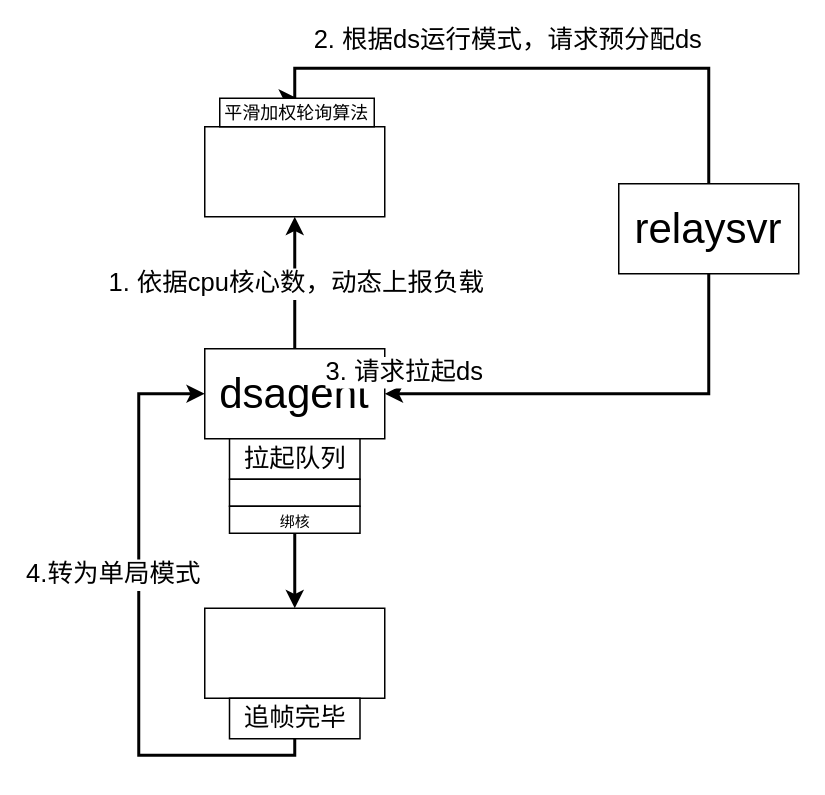
The diagram is 825 pixels wide and 795 high, and some of its shapes have lost their labels. Each missing label, with the box of its shape:
dscenter: (203, 125, 385, 217)
寻找合适cpu核: (228, 478, 360, 506)
拉起ds: (203, 607, 385, 698)
